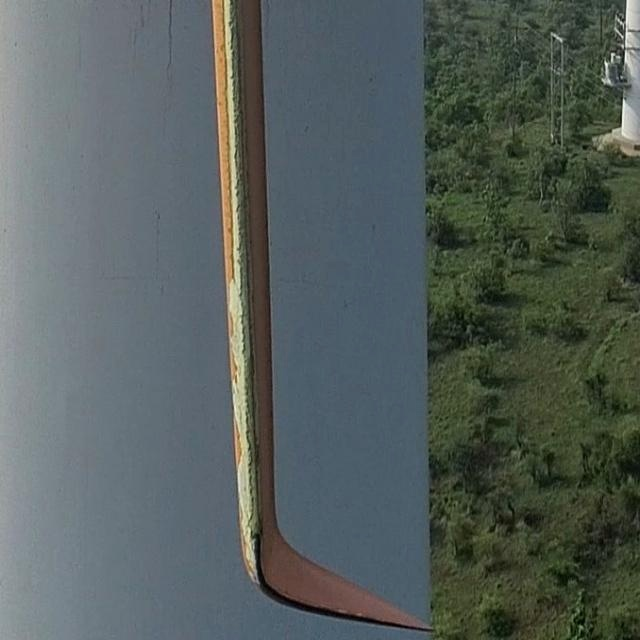EROSION: (226, 23, 406, 630)
